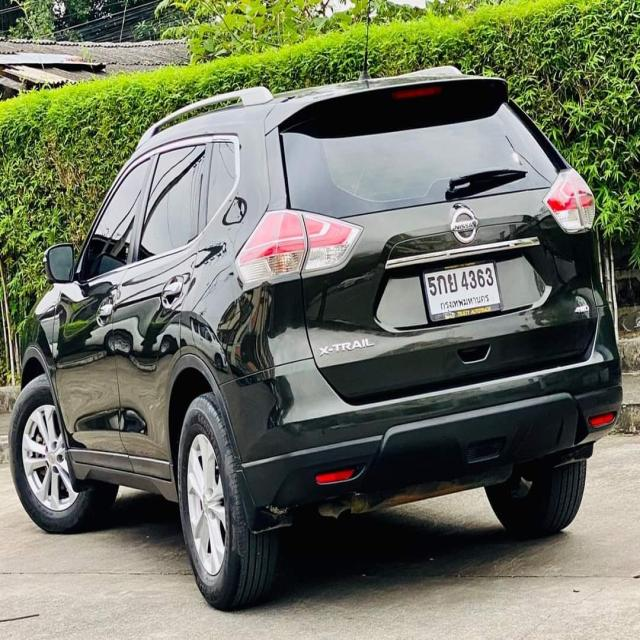license_plate: (420, 256, 502, 328)
